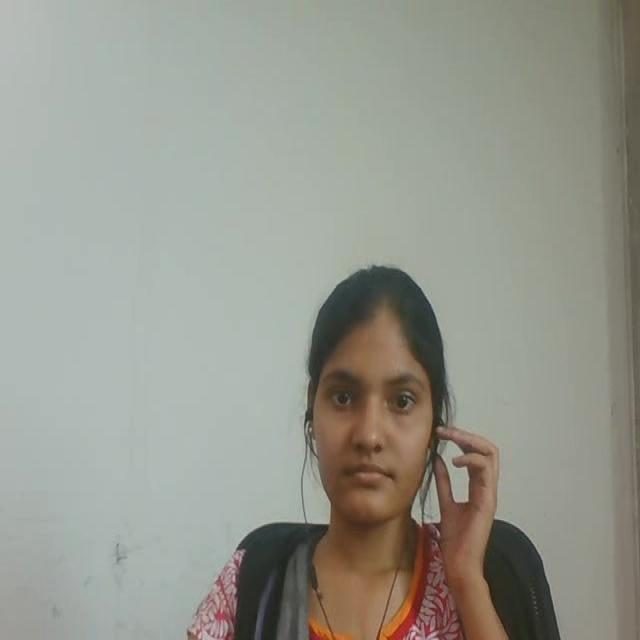Engaged: (266, 247, 506, 540)
